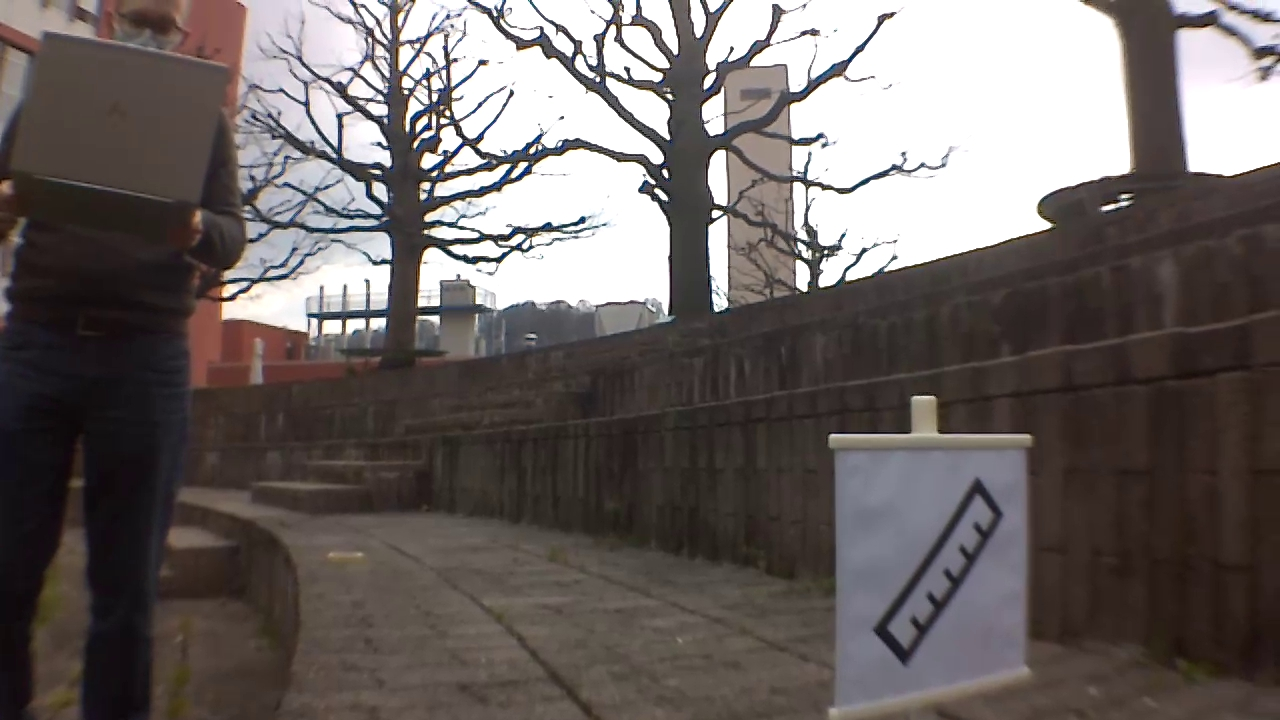ruler: (867, 473, 1012, 672)
